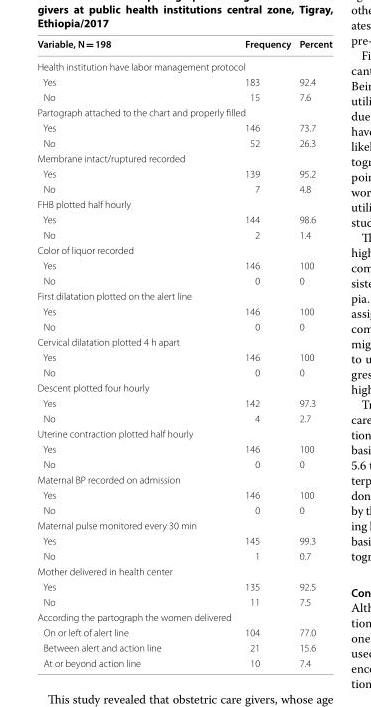table: (36, 37, 331, 668)
table column: (36, 37, 202, 668), (202, 37, 294, 668), (294, 37, 331, 668)
table column header: (36, 37, 331, 58)
table projected row header: (36, 287, 331, 303), (36, 333, 331, 349), (36, 379, 331, 395), (36, 58, 331, 73), (36, 104, 331, 119), (36, 150, 331, 165), (36, 196, 331, 211), (36, 242, 331, 257), (36, 425, 331, 440), (36, 471, 331, 486), (36, 517, 331, 532), (36, 563, 331, 578), (36, 609, 331, 624)
table row: (36, 37, 331, 58), (36, 73, 331, 89), (36, 119, 331, 135), (36, 180, 331, 196), (36, 226, 331, 242), (36, 287, 331, 303), (36, 333, 331, 349), (36, 379, 331, 395), (36, 440, 331, 456), (36, 486, 331, 502), (36, 532, 331, 548), (36, 593, 331, 609), (36, 639, 331, 655), (36, 58, 331, 73), (36, 89, 331, 104), (36, 104, 331, 119), (36, 135, 331, 150), (36, 150, 331, 165), (36, 165, 331, 180), (36, 196, 331, 211), (36, 211, 331, 226), (36, 242, 331, 257), (36, 257, 331, 272), (36, 272, 331, 287), (36, 303, 331, 318), (36, 318, 331, 333), (36, 349, 331, 364), (36, 364, 331, 379), (36, 395, 331, 410), (36, 410, 331, 425), (36, 425, 331, 440), (36, 456, 331, 471), (36, 471, 331, 486), (36, 502, 331, 517), (36, 517, 331, 532), (36, 548, 331, 563), (36, 563, 331, 578), (36, 578, 331, 593), (36, 609, 331, 624), (36, 624, 331, 639), (36, 655, 331, 668)
